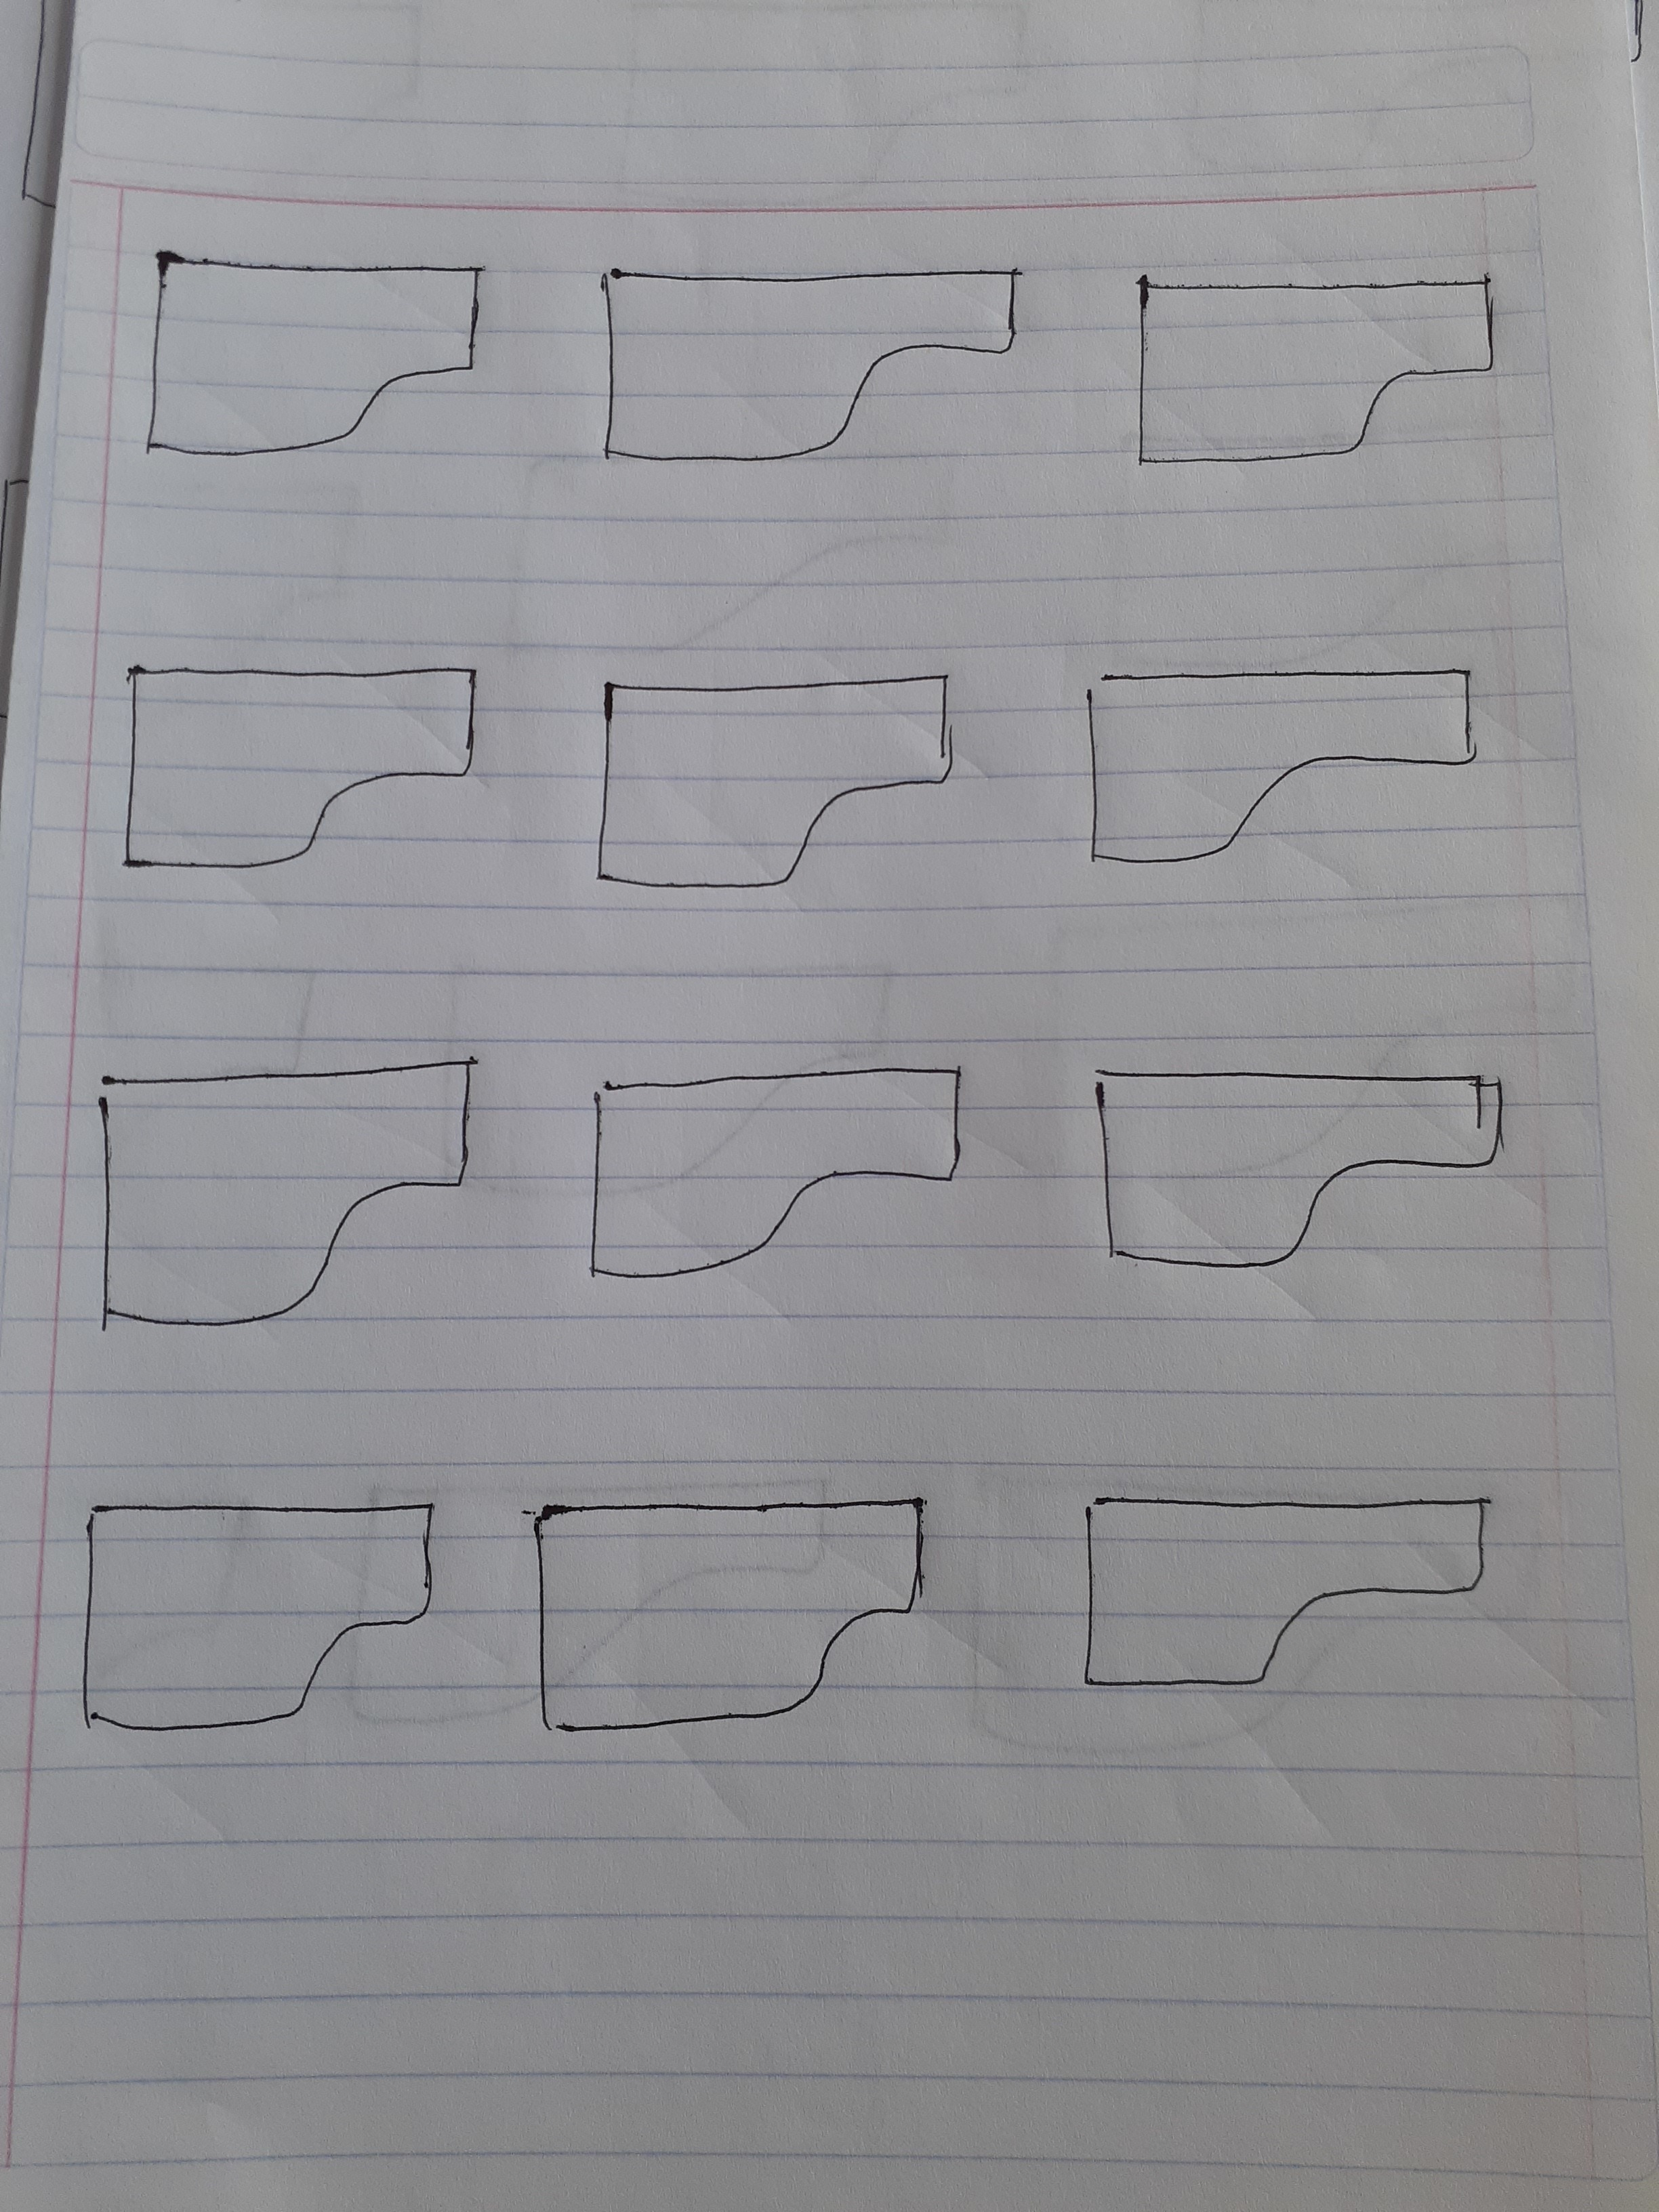print: (1051, 1451, 1521, 1757), (502, 1475, 964, 1773), (49, 1454, 451, 1784), (570, 639, 969, 948), (78, 1045, 491, 1339), (1082, 1038, 1520, 1313), (1091, 239, 1549, 496), (566, 1045, 979, 1325), (580, 239, 1033, 486), (129, 218, 509, 496), (99, 641, 491, 902), (1058, 636, 1488, 873)
